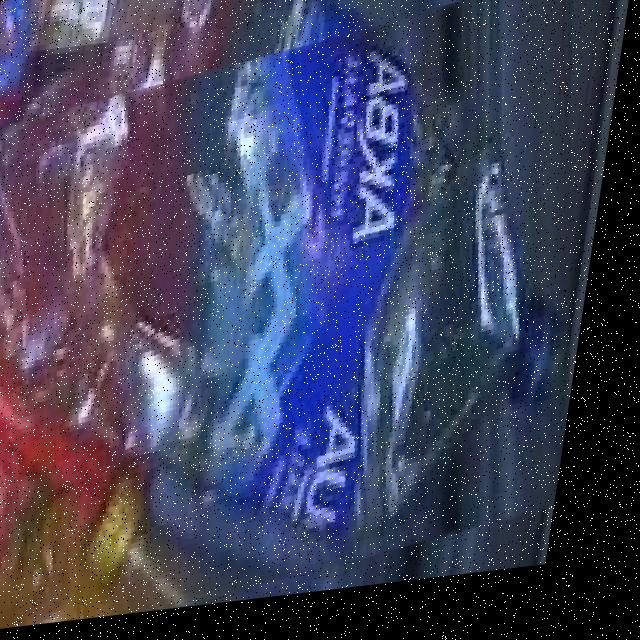plasticbottle: (0, 2, 630, 639)
